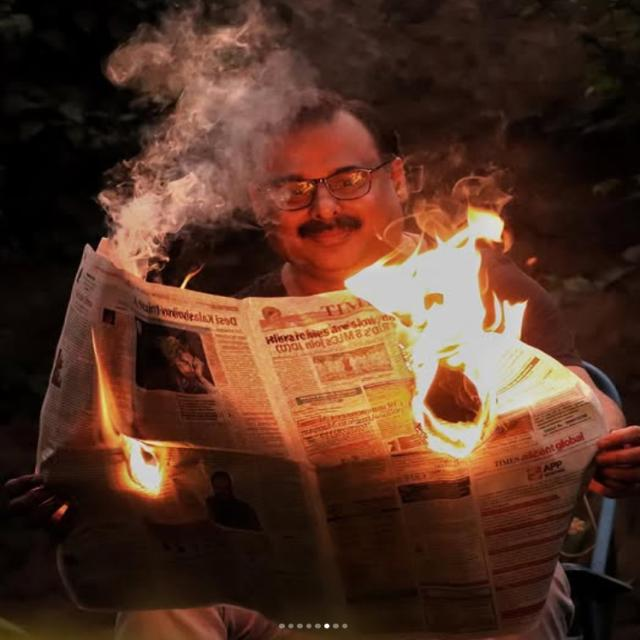fire: (344, 201, 528, 459), (92, 325, 163, 498)
